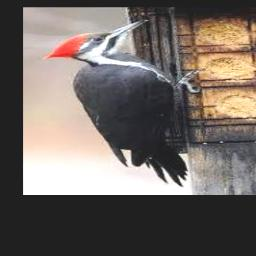Woodpecker: (43, 19, 202, 186)
